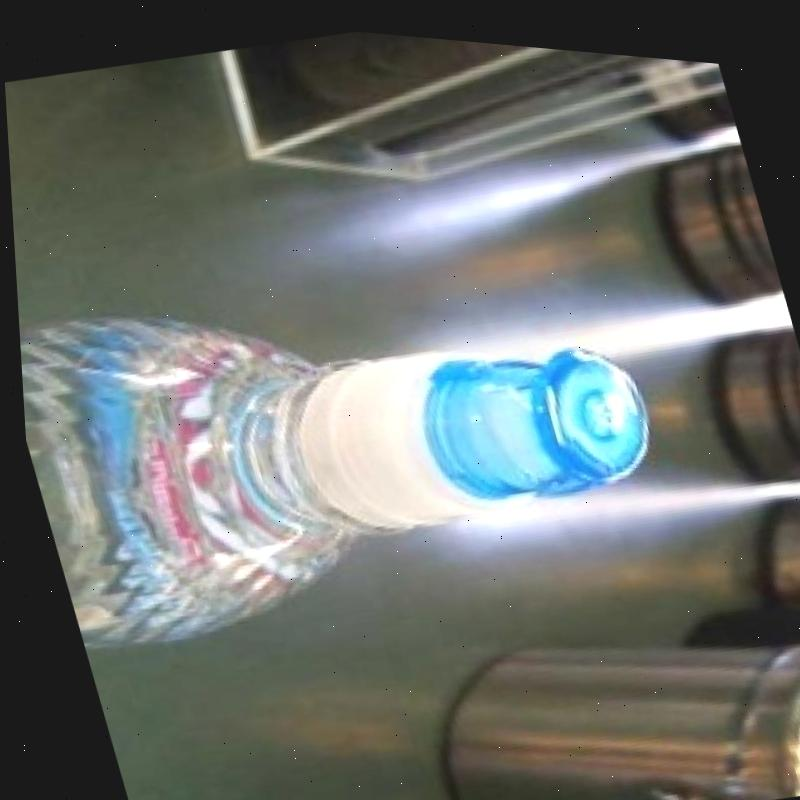botella: (9, 197, 694, 702)
